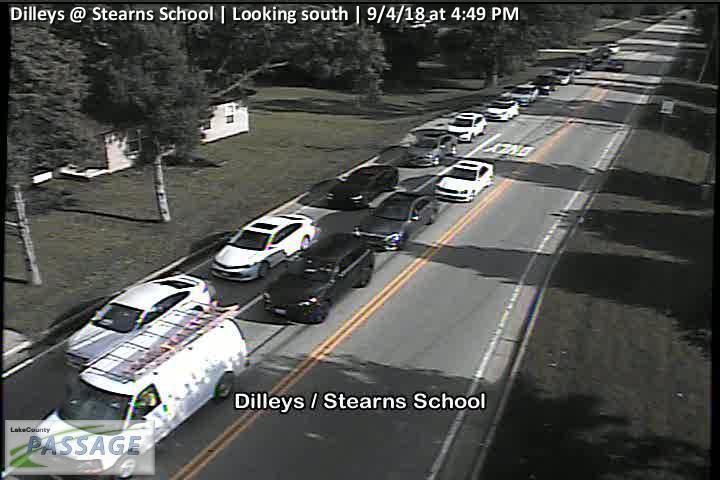SUV: (29, 300, 249, 480), (62, 272, 214, 373), (264, 233, 375, 325), (408, 130, 458, 168), (448, 112, 488, 144), (486, 99, 520, 122), (510, 83, 540, 106)
Sedan: (211, 210, 321, 282), (353, 190, 440, 251), (326, 166, 399, 209), (435, 157, 493, 203)
